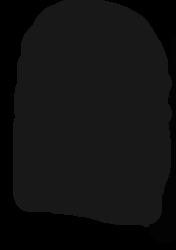fp: (5, 1, 173, 226)
